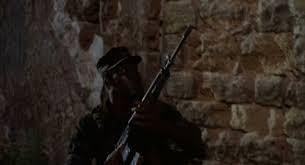rifle: (105, 25, 196, 165)
